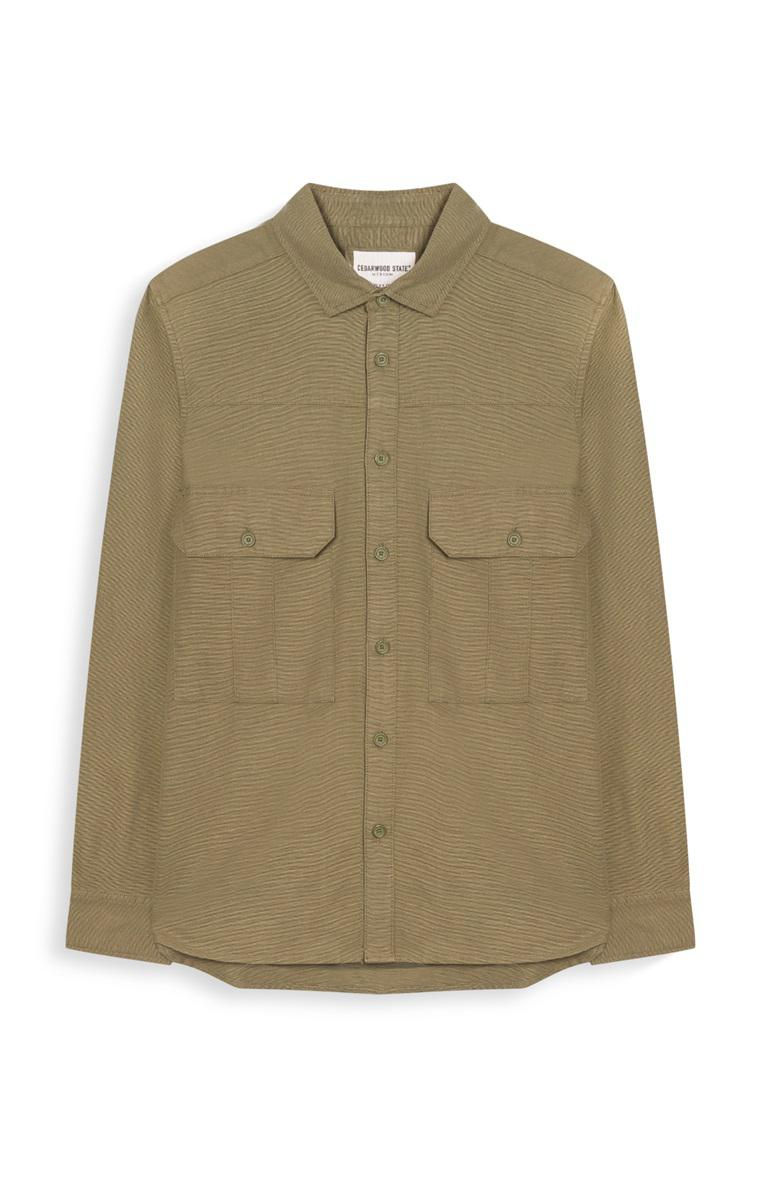teeshirt: (57, 176, 711, 1002)
